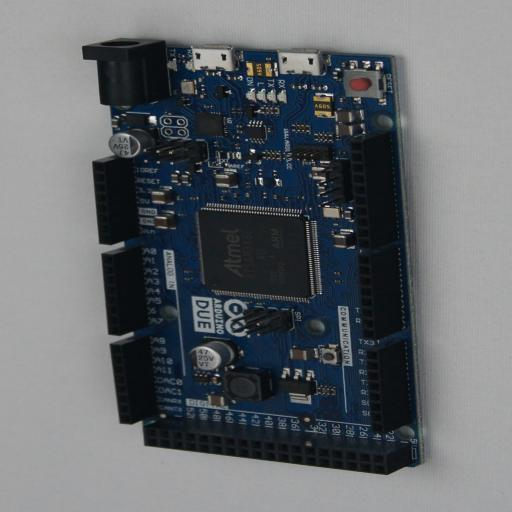Arduino Due: (82, 38, 425, 475)
